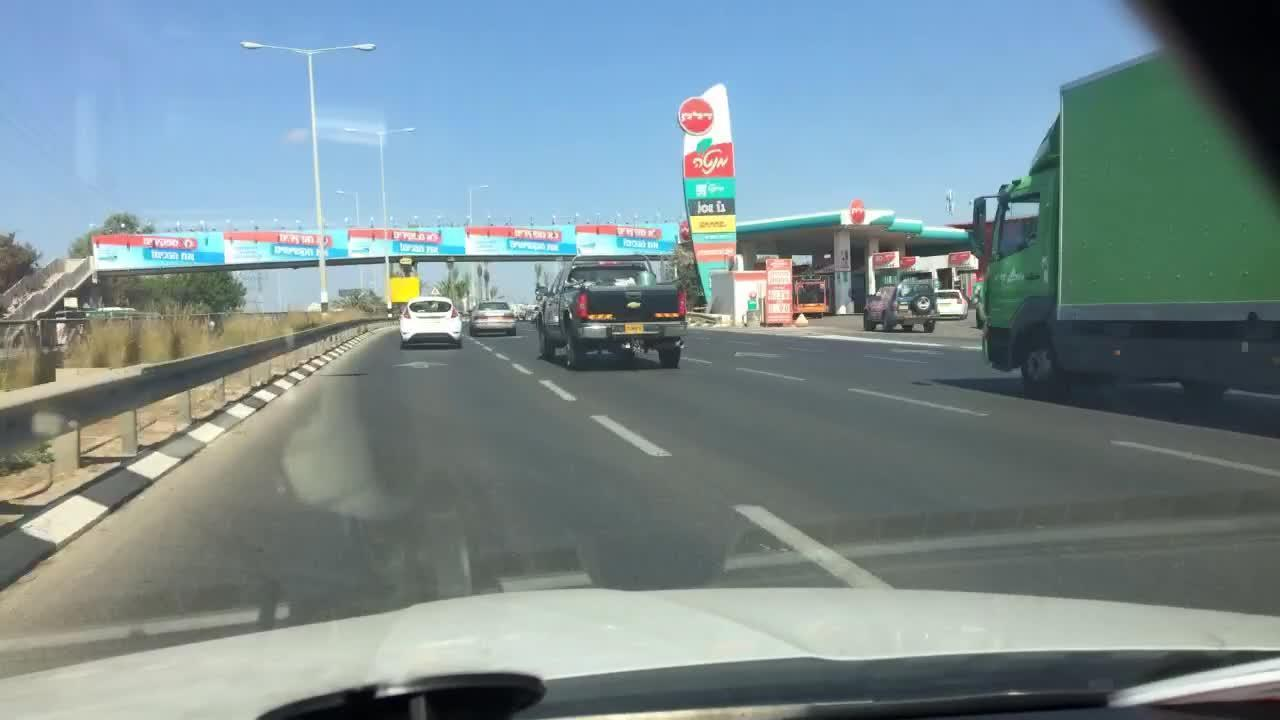chevrolet: (621, 300, 646, 310)
